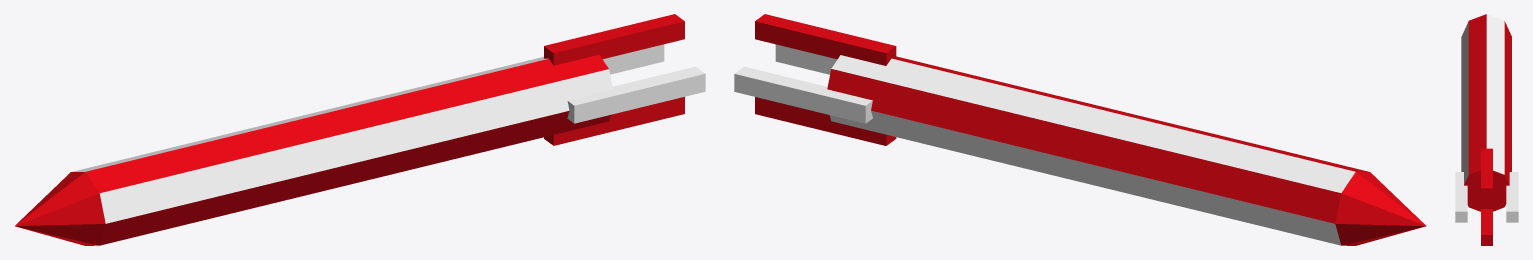
Rendered from KevARocket.fbx.
3 views of the same model, side by side, from view 1: azimuth 30°, elevation 25°; view 2: azimuth 150°, elevation 25°; view 3: azimuth 270°, elevation 25° (orthographic). The views are drawn at different scales.
Parts seen in each view (by area): view 1: Rocket; view 2: Rocket; view 3: Rocket.
Boxes of the visible parts, x1,y1,x2,y2 form: Rocket: [15, 14, 705, 245]; Rocket: [734, 14, 1426, 245]; Rocket: [1455, 14, 1518, 245].
Bounding box in the file's own units: 22.75 × 22.75 × 171.
